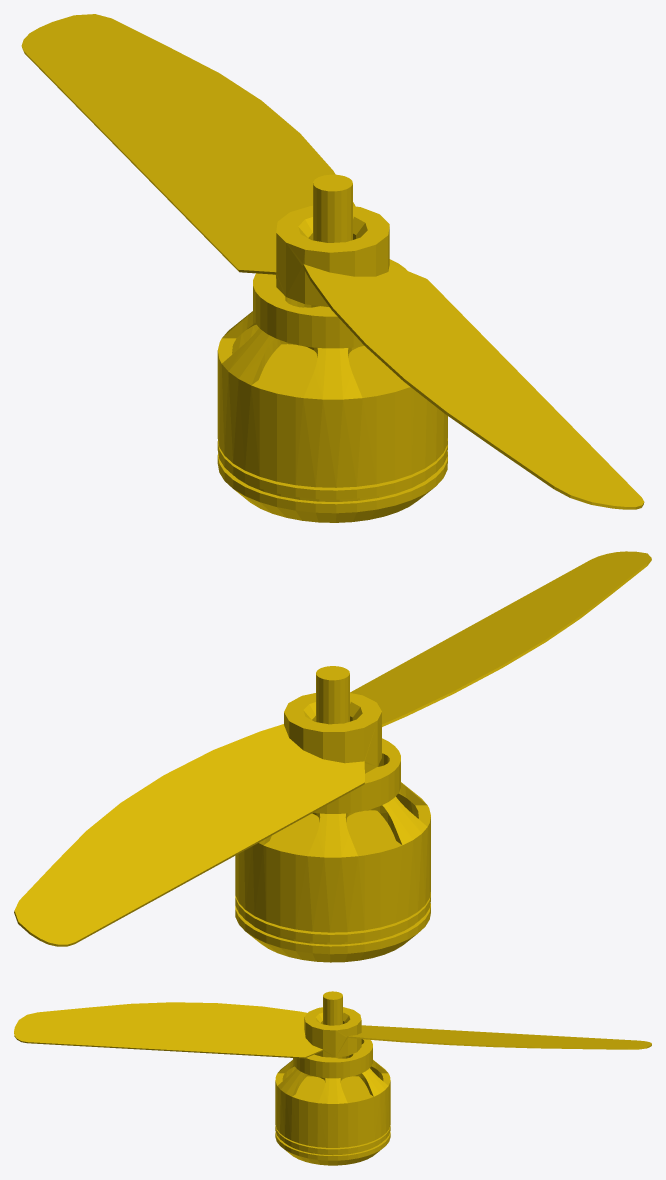
The model's file is motor3urss.dae.
3 renders of one model, top to bottom at view 1: azimuth 30°, elevation 25°; view 2: azimuth 150°, elevation 25°; view 3: azimuth 270°, elevation 25°, orthographic. The views are drawn at different scales.
Parts seen in each view (by area): view 1: motor3; view 2: motor3; view 3: motor3.
Part boxes in pixels (x1=…): motor3: x1=21, y1=14, x2=644, y2=522; motor3: x1=14, y1=551, x2=651, y2=962; motor3: x1=14, y1=991, x2=651, y2=1165.
Size of the model in its own units: 0.023 by 0.1273 by 0.0348.
